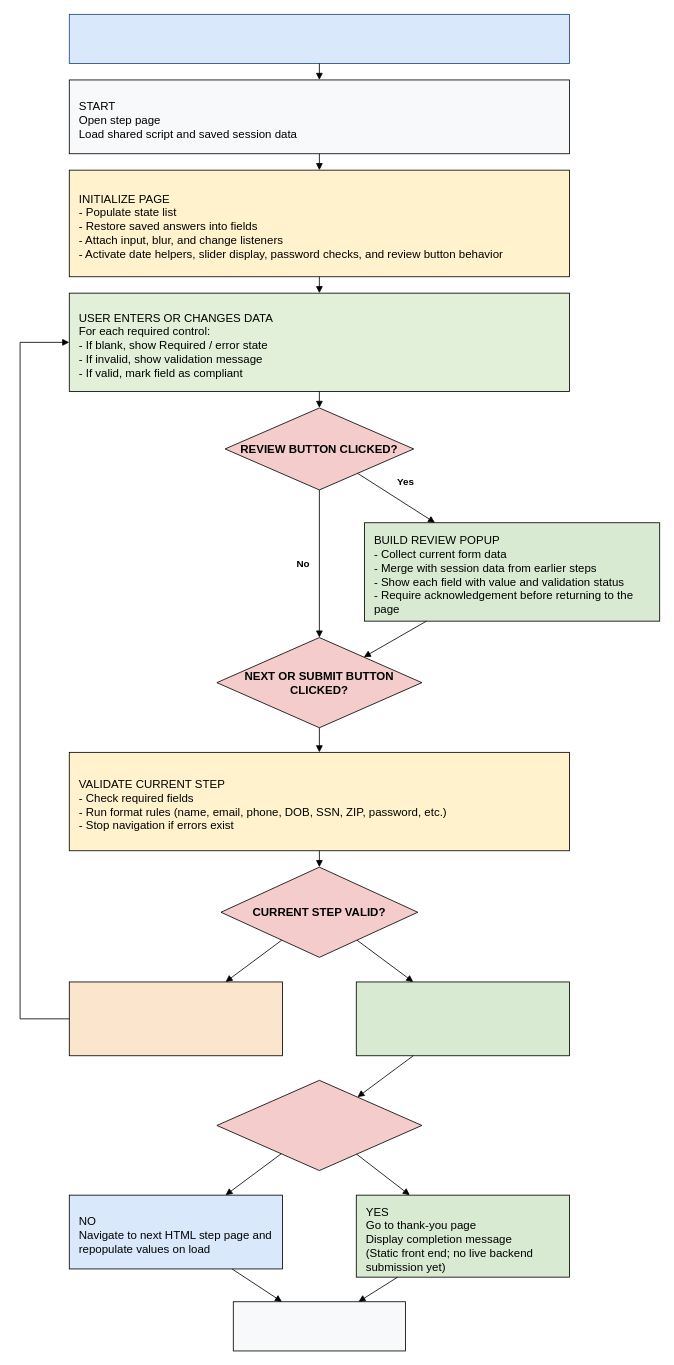
The diagram is 674 pixels wide and 1365 high, and some of its shapes have lost their labels. Here are the shapes that lost their labels. From the top down, the centre of each, then its label:
the point at 318,39: Bluebonnet Health Clinic Registration Form Nassi-Shneiderman Style Flow
the point at 175,1018: NO Display errors, keep user on same page, allow corrections
the point at 462,1018: YES Save current step data into session storage
the point at 319,1125: IS THIS THE FINAL CONSENT STEP?
the point at 318,1326: END
